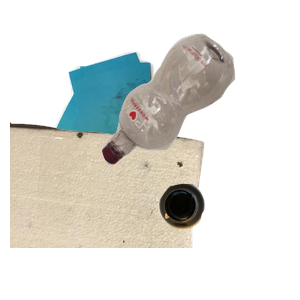glass: (156, 181, 300, 300)
paper: (52, 49, 209, 198)
plastic: (99, 31, 300, 189)
trash: (10, 120, 207, 300)
